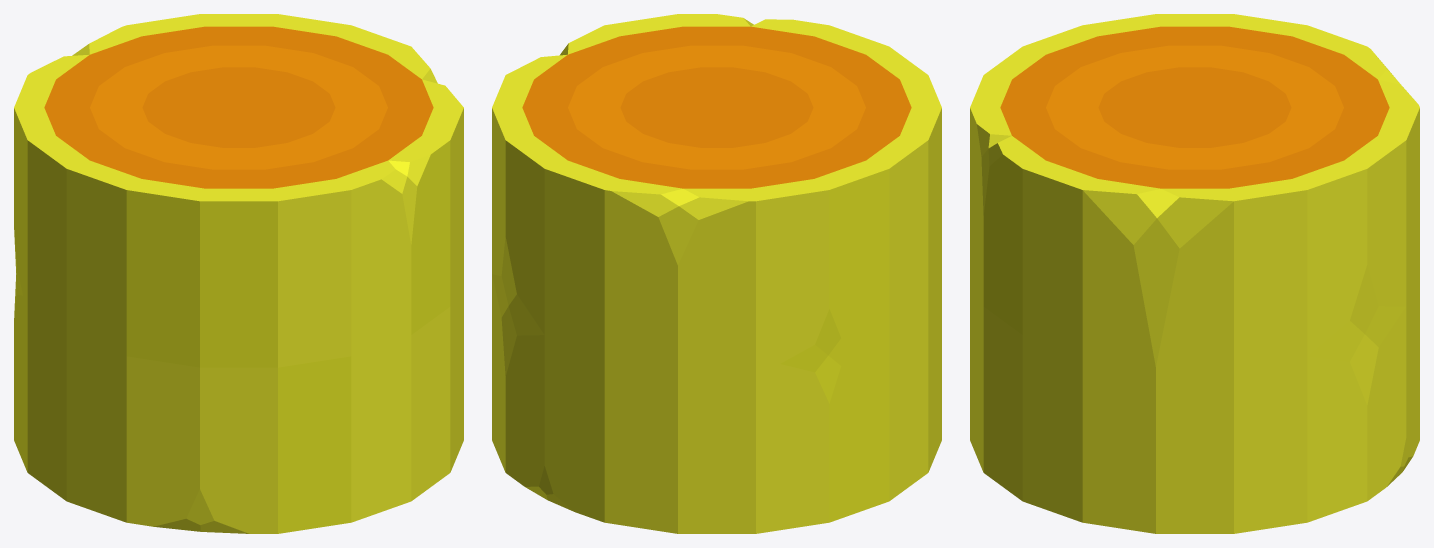
File: Tree log_21.fbx
3 renders of one model, left to right at view 1: azimuth 30°, elevation 25°; view 2: azimuth 150°, elevation 25°; view 3: azimuth 270°, elevation 25°, orthographic.
Parts seen in each view (by area): view 1: Circle.297; view 2: Circle.297; view 3: Circle.297.
Boxes of the visible parts, box(x1,y1,x2,y2) form: Circle.297: box(14, 14, 463, 533); Circle.297: box(492, 14, 941, 533); Circle.297: box(970, 14, 1419, 533).
Size of the model in its own units: 23.2 by 19.22 by 23.56.
